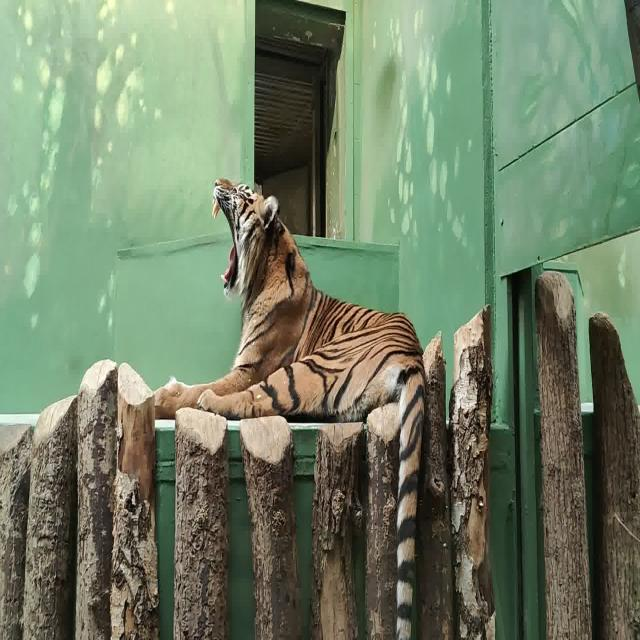tiger: (155, 178, 426, 640)
